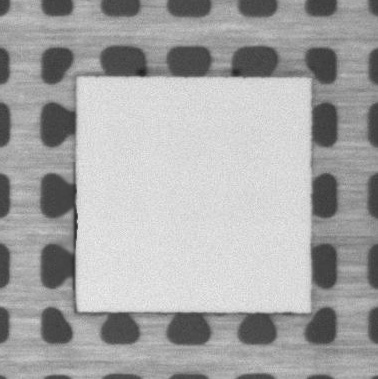DIE_BROKEN: (71, 166, 80, 297)
